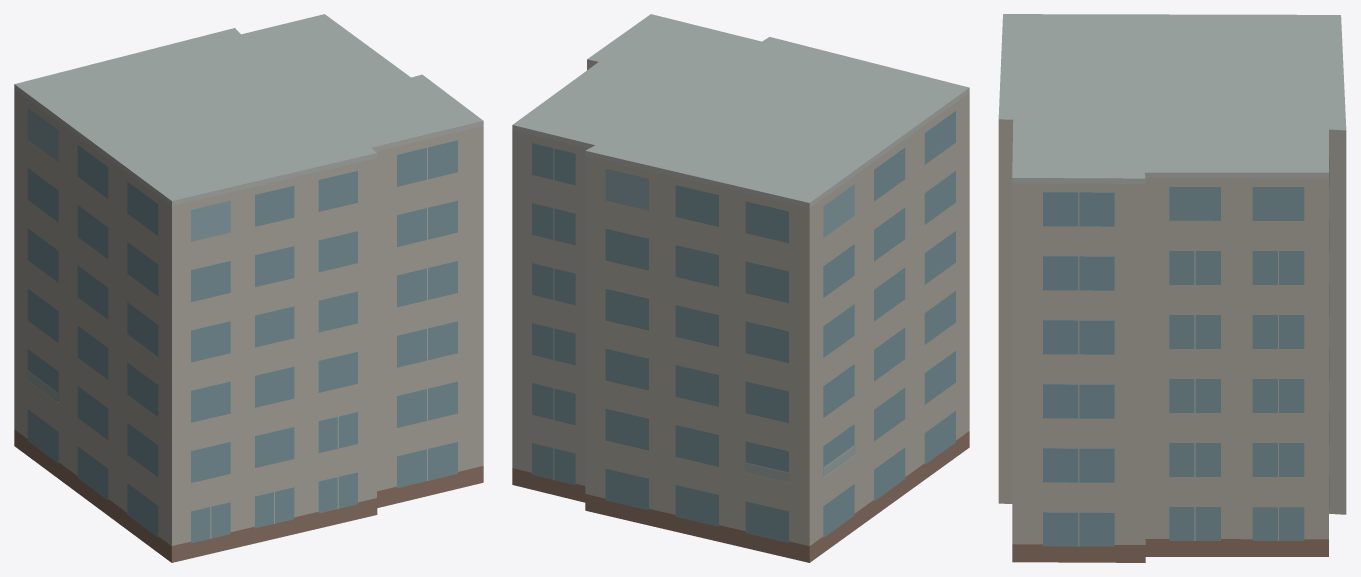
The model's file is survey-upis-32869947.glb.
3 renders of one model, left to right at view 1: azimuth 30°, elevation 25°; view 2: azimuth 150°, elevation 25°; view 3: azimuth 270°, elevation 25°, orthographic. The views are drawn at different scales.
Parts seen in each view (by area): view 1: survey-upis-32869947.tmp; view 2: survey-upis-32869947.tmp; view 3: survey-upis-32869947.tmp.
Part boxes in pixels (bbox=[...]): survey-upis-32869947.tmp: bbox=[14, 14, 483, 562]; survey-upis-32869947.tmp: bbox=[512, 14, 969, 562]; survey-upis-32869947.tmp: bbox=[998, 14, 1346, 562].
Size of the model in its own units: 15.81 by 17.2 by 14.12.
